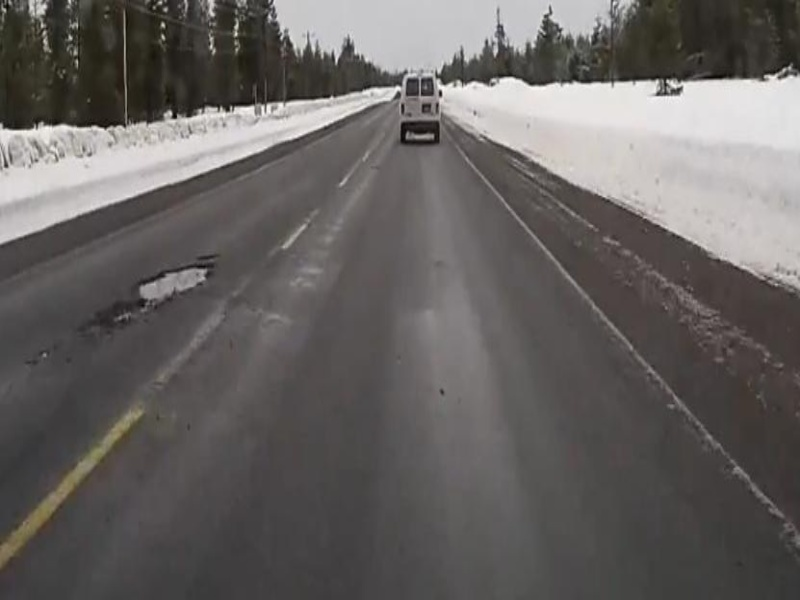pothole: (131, 263, 210, 301)
